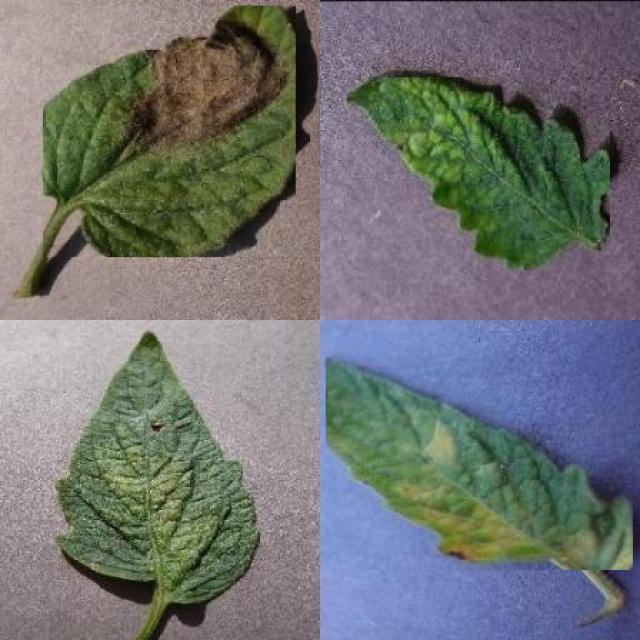Late Blight: (43, 6, 296, 257)
Leaf Mold: (326, 357, 633, 570)
Mosaic Virus: (347, 77, 610, 270)
Spider Mites: (53, 329, 260, 604)
